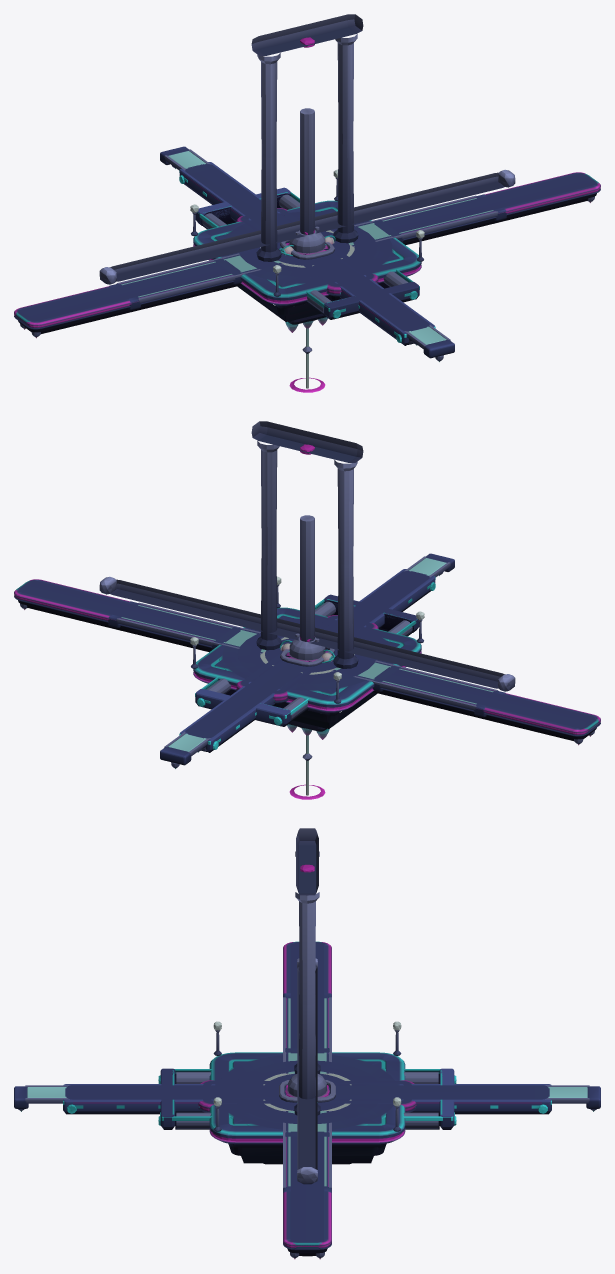
Rendered from core-3-C2S16YMb.glb.
3 renders of one model, top to bottom at view 1: azimuth 30°, elevation 25°; view 2: azimuth 150°, elevation 25°; view 3: azimuth 270°, elevation 25°, orthographic. The views are drawn at different scales.
Parts seen in each view (by area): view 1: pressFrame_4x6x2x7#0, block_44x2x2.5_grate#1, mount_15.3#0, block_44x2x3_grate#1, pad_12x2x12#0, block_2.5x2x30_grate#0, belt_7x1.5x18x1#0, beam_29x1.5x3#0, press_3.5x6x2#0, disc_10x1.5#1, belt_2.5x1.5x30x0#0, beam_2x1.5x36#0 (+4 smaller); view 2: pressFrame_4x6x2x7#0, block_44x2x2.5_grate#1, mount_15.3#0, block_44x2x3_grate#1, pad_12x2x12#0, block_2.5x2x30_grate#0, belt_7x1.5x18x1#0, beam_29x1.5x3#0, press_3.5x6x2#0, disc_10x1.5#1, belt_2.5x1.5x30x0#0, beam_2x1.5x36#0 (+4 smaller); view 3: pad_12x2x12#0, block_2.5x2x30_grate#0, pressFrame_4x6x2x7#0, block_44x2x2.5_grate#1, belt_2.5x1.5x30x0#0, belt_7x1.5x18x1#0, disc_10x1.5#1, block_44x2x3_grate#1, disc_12x1.5#0, mount_15.3#0, beam_2x1.5x36#0, block_4x2x13.5#1 (+2 smaller).
Boxes of the visible parts, x1=… form: pressFrame_4x6x2x7#0: x1=251, y1=14, x2=363, y2=261; block_44x2x2.5_grate#1: x1=15, y1=173, x2=598, y2=326; mount_15.3#0: x1=99, y1=169, x2=515, y2=284; block_44x2x3_grate#1: x1=14, y1=172, x2=600, y2=338; pad_12x2x12#0: x1=190, y1=169, x2=424, y2=321; block_2.5x2x30_grate#0: x1=183, y1=164, x2=429, y2=332; belt_7x1.5x18x1#0: x1=195, y1=187, x2=419, y2=319; beam_29x1.5x3#0: x1=109, y1=194, x2=506, y2=310; press_3.5x6x2#0: x1=285, y1=108, x2=327, y2=332; disc_10x1.5#1: x1=239, y1=218, x2=377, y2=277; belt_2.5x1.5x30x0#0: x1=179, y1=162, x2=435, y2=345; beam_2x1.5x36#0: x1=160, y1=146, x2=454, y2=361; pressFrame_4x6x2x7#0: x1=251, y1=421, x2=363, y2=668; block_44x2x2.5_grate#1: x1=16, y1=580, x2=599, y2=733; mount_15.3#0: x1=99, y1=576, x2=515, y2=691; block_44x2x3_grate#1: x1=14, y1=579, x2=600, y2=745; pad_12x2x12#0: x1=190, y1=576, x2=424, y2=728; block_2.5x2x30_grate#0: x1=185, y1=571, x2=429, y2=738; belt_7x1.5x18x1#0: x1=195, y1=594, x2=419, y2=726; beam_29x1.5x3#0: x1=108, y1=601, x2=505, y2=717; press_3.5x6x2#0: x1=287, y1=515, x2=329, y2=739; disc_10x1.5#1: x1=237, y1=625, x2=375, y2=684; belt_2.5x1.5x30x0#0: x1=179, y1=569, x2=435, y2=752; beam_2x1.5x36#0: x1=160, y1=553, x2=454, y2=768; pad_12x2x12#0: x1=209, y1=1021, x2=405, y2=1164; block_2.5x2x30_grate#0: x1=66, y1=1085, x2=548, y2=1103; pressFrame_4x6x2x7#0: x1=294, y1=828, x2=320, y2=1115; block_44x2x2.5_grate#1: x1=290, y1=941, x2=324, y2=1248; belt_2.5x1.5x30x0#0: x1=63, y1=1084, x2=551, y2=1114; belt_7x1.5x18x1#0: x1=158, y1=1068, x2=456, y2=1129; disc_10x1.5#1: x1=233, y1=1060, x2=381, y2=1123; block_44x2x3_grate#1: x1=283, y1=942, x2=331, y2=1259; disc_12x1.5#0: x1=217, y1=1054, x2=397, y2=1130; mount_15.3#0: x1=297, y1=958, x2=317, y2=1184; beam_2x1.5x36#0: x1=14, y1=1085, x2=600, y2=1111; block_4x2x13.5#1: x1=198, y1=1080, x2=416, y2=1112.
Size of the model in its own units: 44 by 26.4 by 36.
